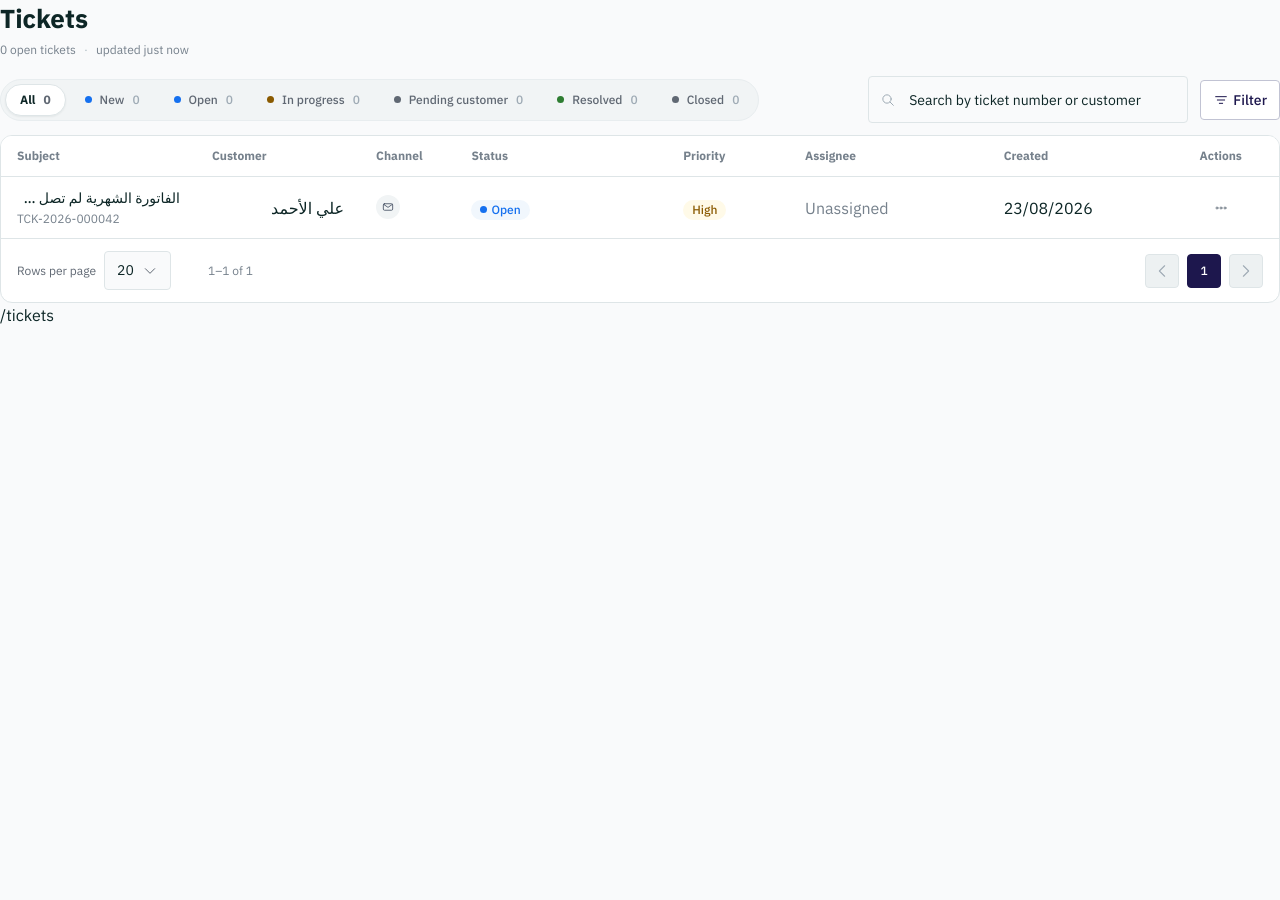
Test case: AC-25 / AC-26 / AC-33 — assigning: one write, then the surface goes, then the toast › unassigning is INFO, not success — it is a step back, not an achievement
The image size is (1280, 900).
What coordinates should you click on to do the following:
click the button named "Ticket actions"
I would click on:
 (1221, 208)
Its box is [1206,193,1236,223].
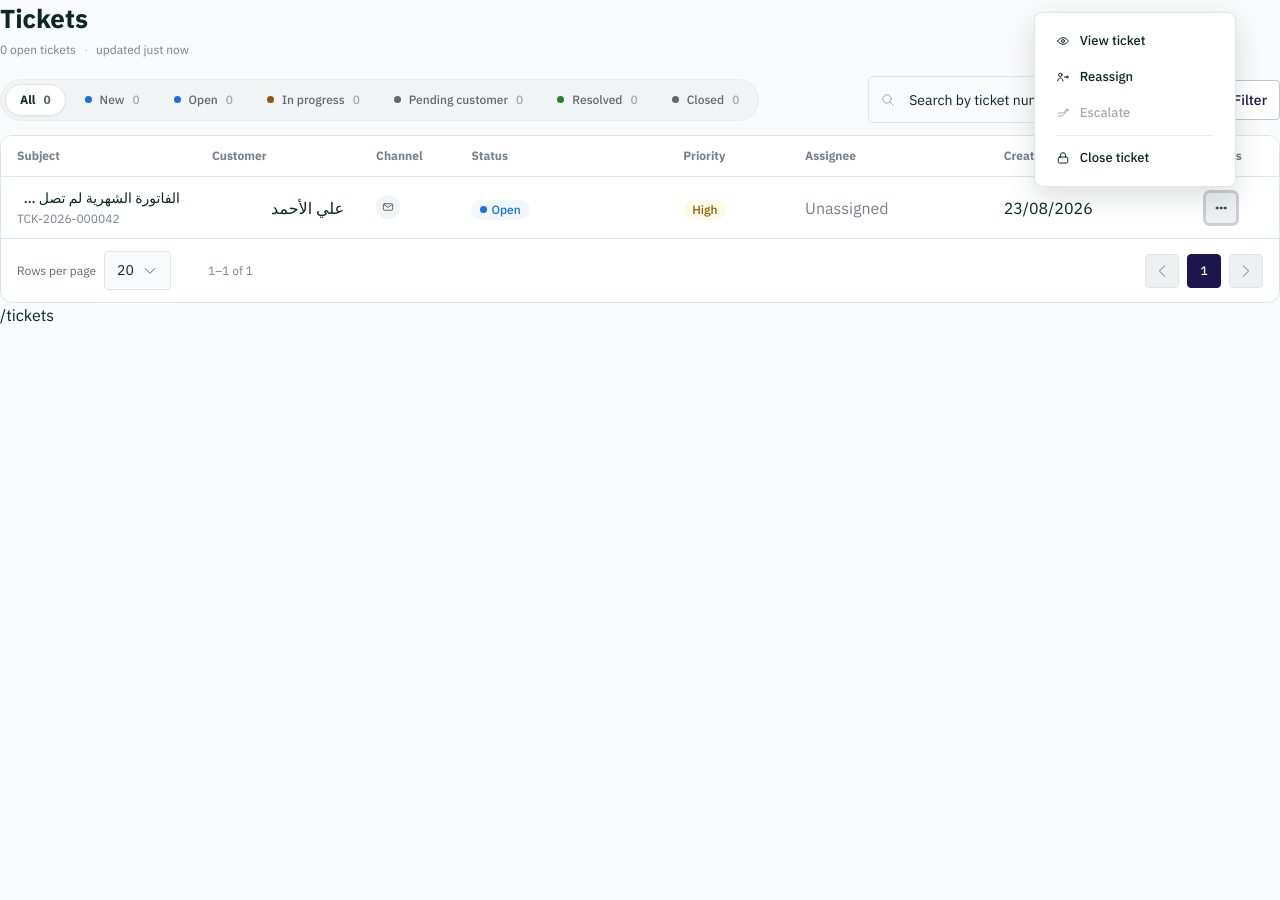
What coordinates should you click on to do the following:
click the menu item "Reassign"
I would click on:
 (1135, 77)
Its box is [1045,59,1225,95].
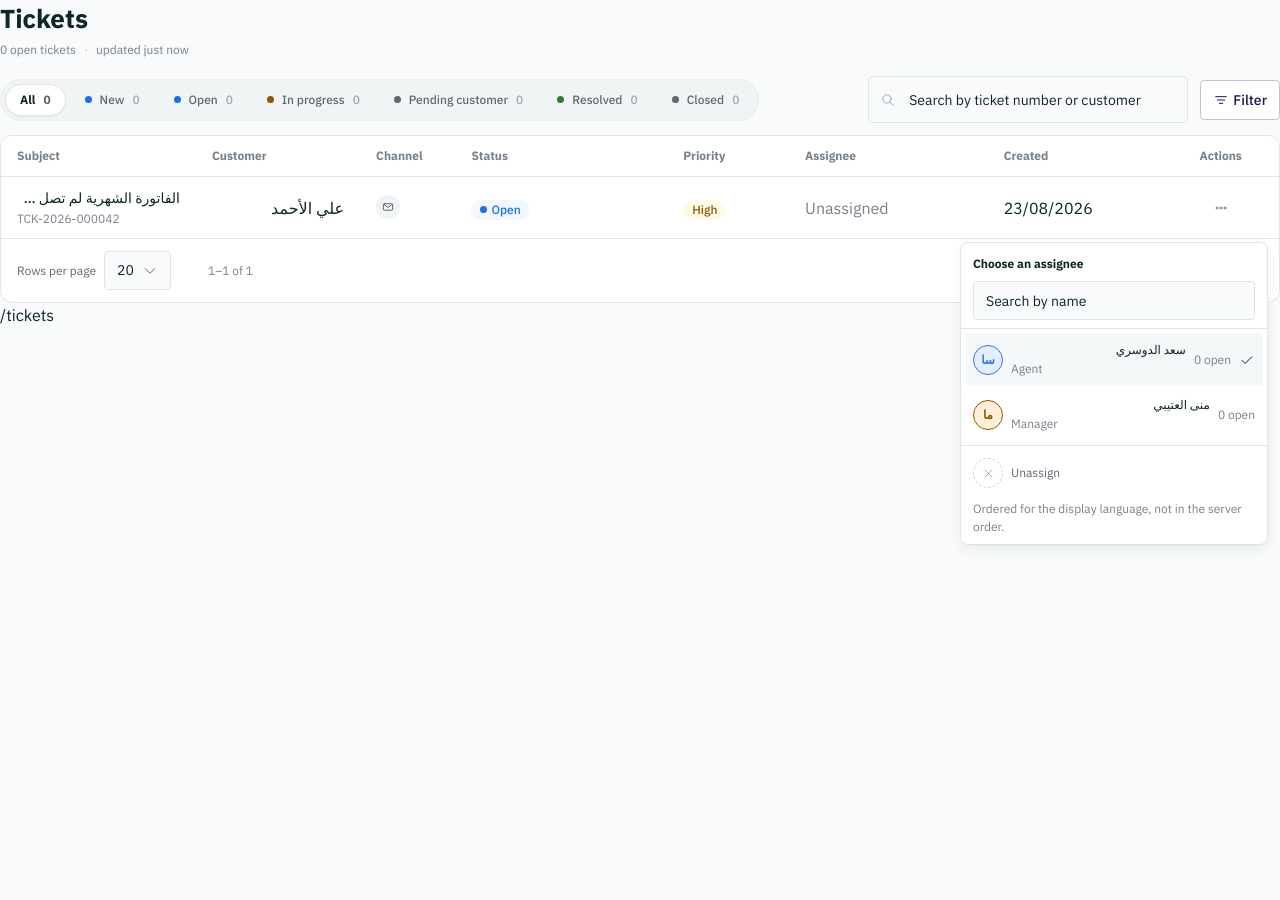
expect the button "Unassign" is enabled: met
What coordinates should you click on to do the following:
click the button "Unassign"
I would click on:
 (1036, 473)
Its box is [965,450,1263,496].
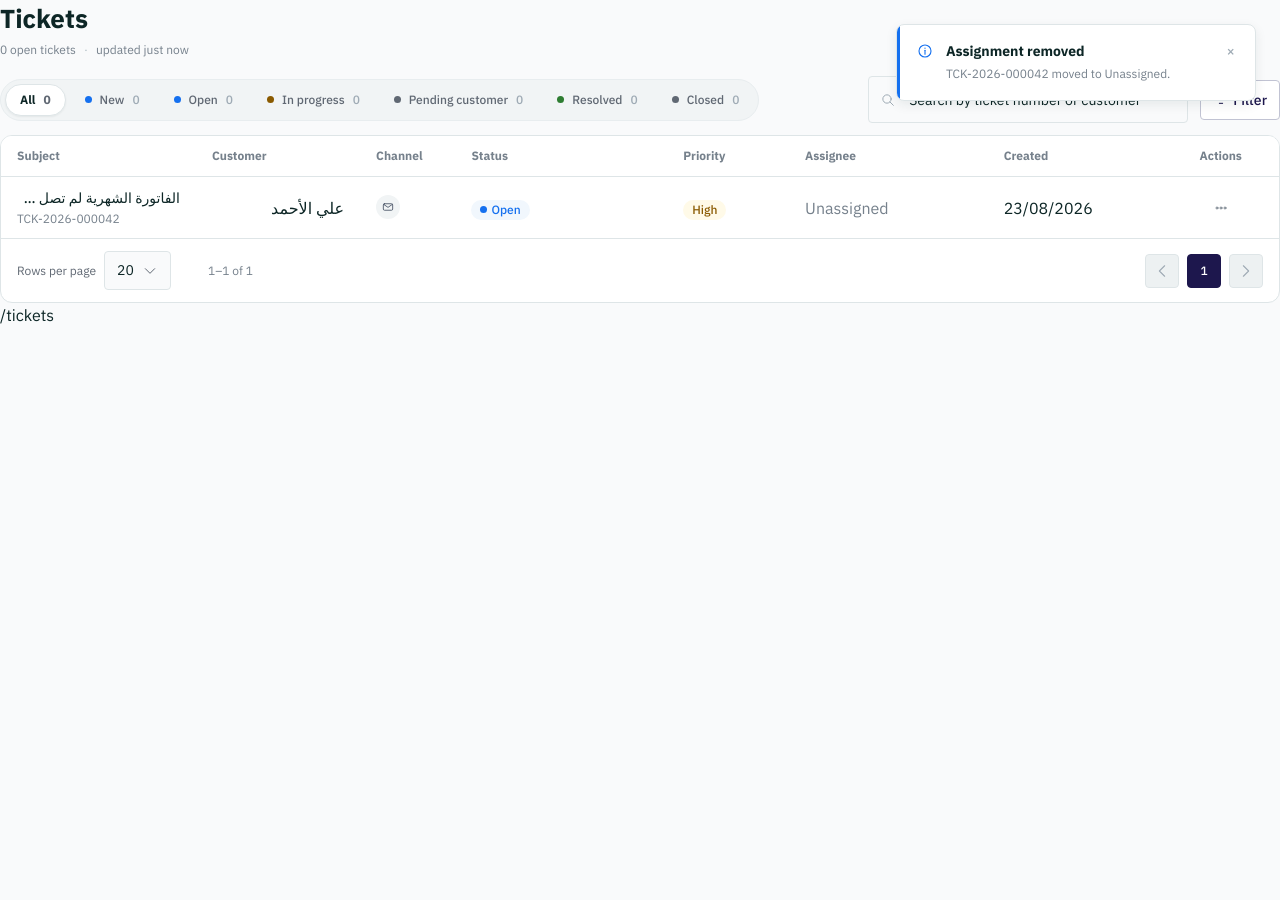
expect the message shows "Assignment removed": met, box [946,42,1085,60]
